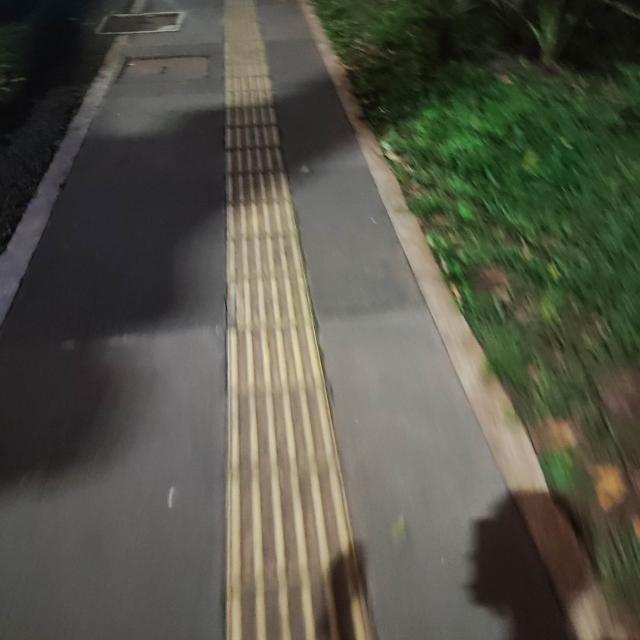lurus: (201, 61, 357, 640)
